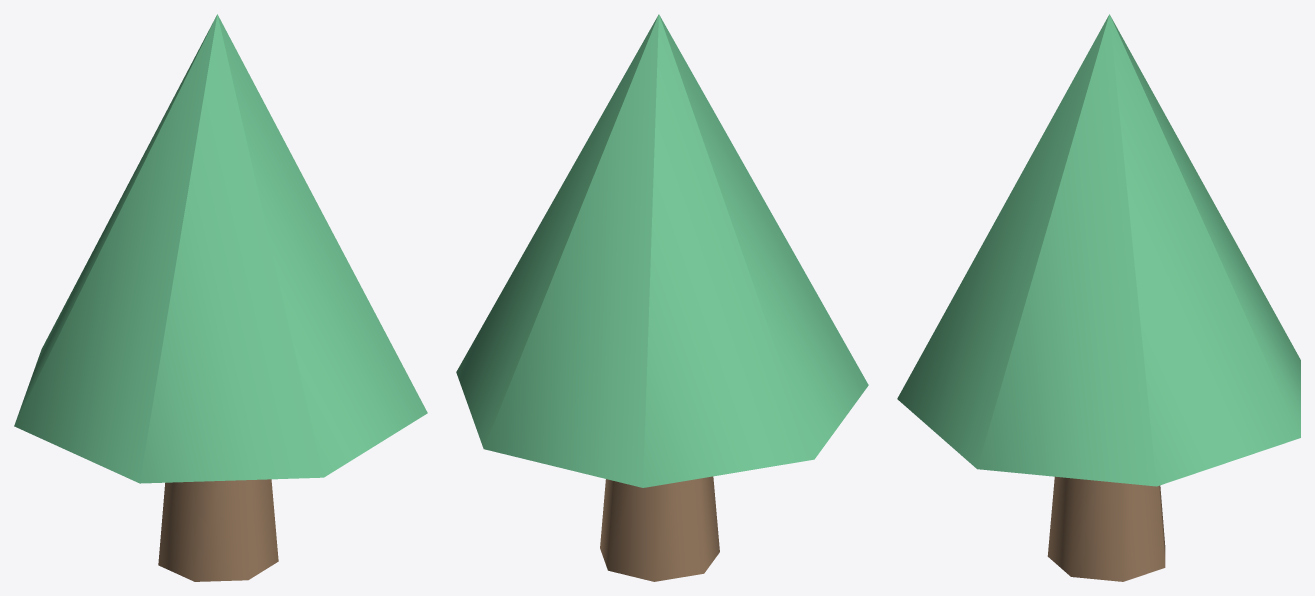
The model's file is tree.glb.
3 renders of one model, left to right at view 1: azimuth 30°, elevation 25°; view 2: azimuth 150°, elevation 25°; view 3: azimuth 270°, elevation 25°, orthographic.
Parts seen in each view (by area): view 1: leaves, trunk; view 2: leaves, trunk; view 3: leaves, trunk.
Part boxes in pixels (<box>): leaves: <box>14,14,427,483</box>; trunk: <box>158,479,278,581</box>; leaves: <box>456,14,868,487</box>; trunk: <box>600,476,719,581</box>; leaves: <box>897,14,1300,486</box>; trunk: <box>1047,476,1165,581</box>.
Size of the model in its own units: 1.07 by 1.55 by 1.05.
